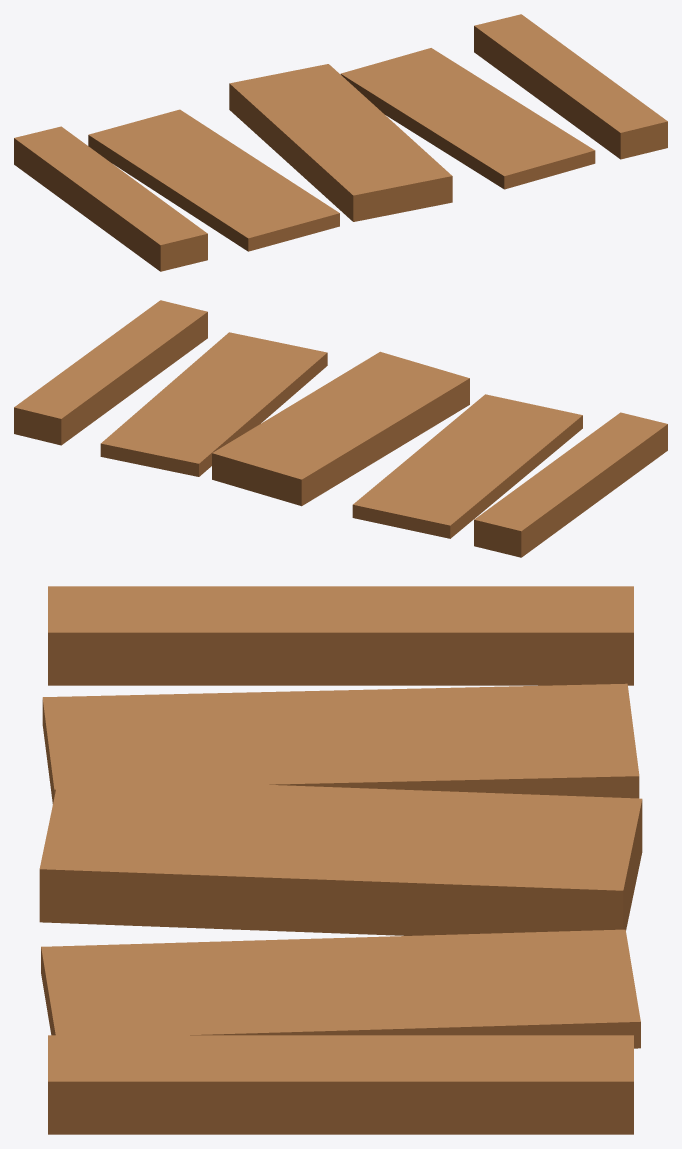
Rendered from plank-path.glb.
The picture shows the model from 3 angles, top to bottom: view 1: azimuth 30°, elevation 25°; view 2: azimuth 150°, elevation 25°; view 3: azimuth 270°, elevation 25°; orthographic projection. The views are drawn at different scales.
Parts seen in each view (by area): view 1: path_wood; view 2: path_wood; view 3: path_wood.
Boxes of the visible parts, x1=… form: path_wood: x1=14, y1=14, x2=667, y2=271; path_wood: x1=14, y1=300, x2=667, y2=557; path_wood: x1=39, y1=586, x2=642, y2=1134.
Bounding box in the file's own units: 4 × 0.2002 × 2.06.
